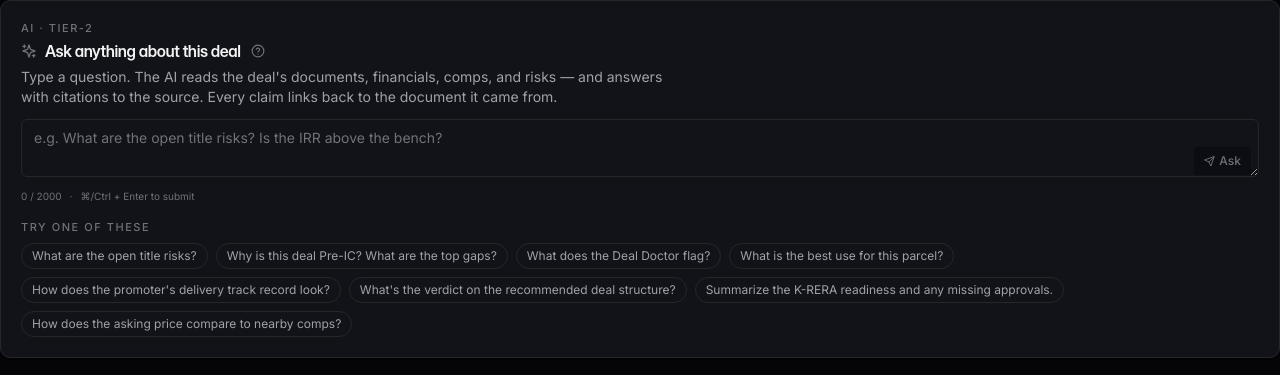
Scenario: DealQaBox › clicking a suggested question fills the textarea
Click the button "What are the open title risks?" at (114, 256), box [21, 243, 208, 269]
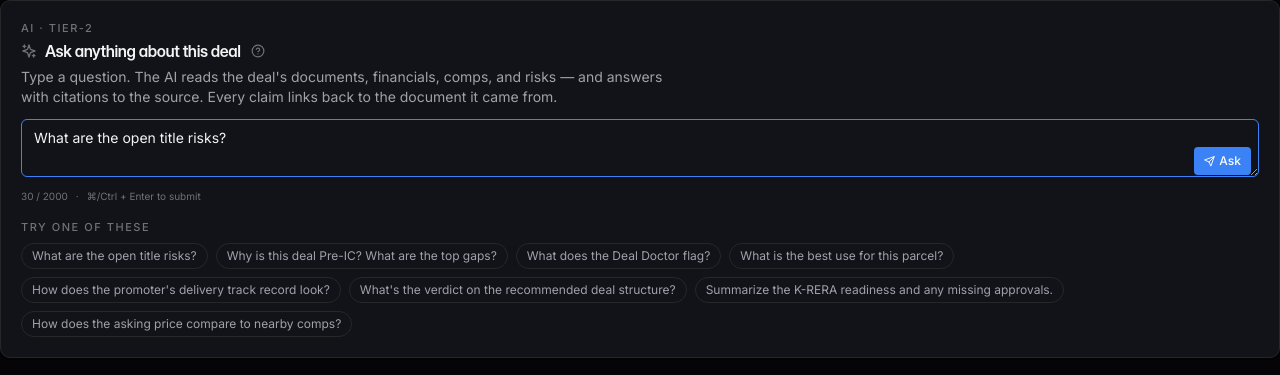
Check: the text box with placeholder "title risks" holds "What are the open title risks?", box [21, 119, 1259, 177]
